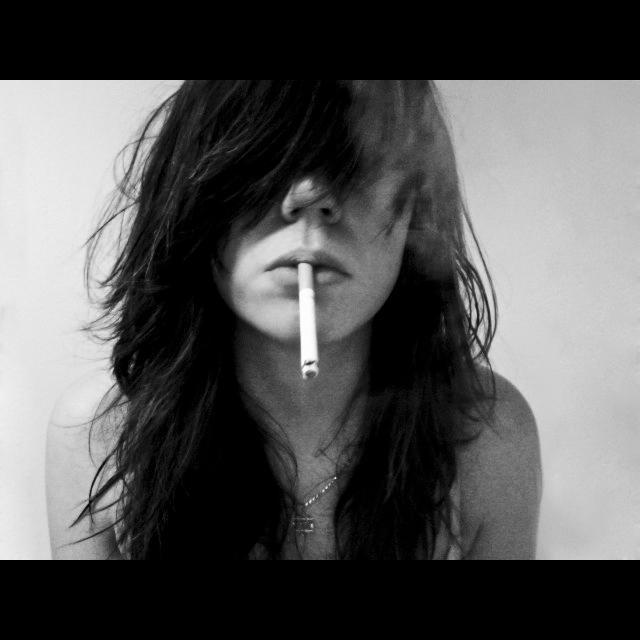rokok: (284, 245, 326, 400)
